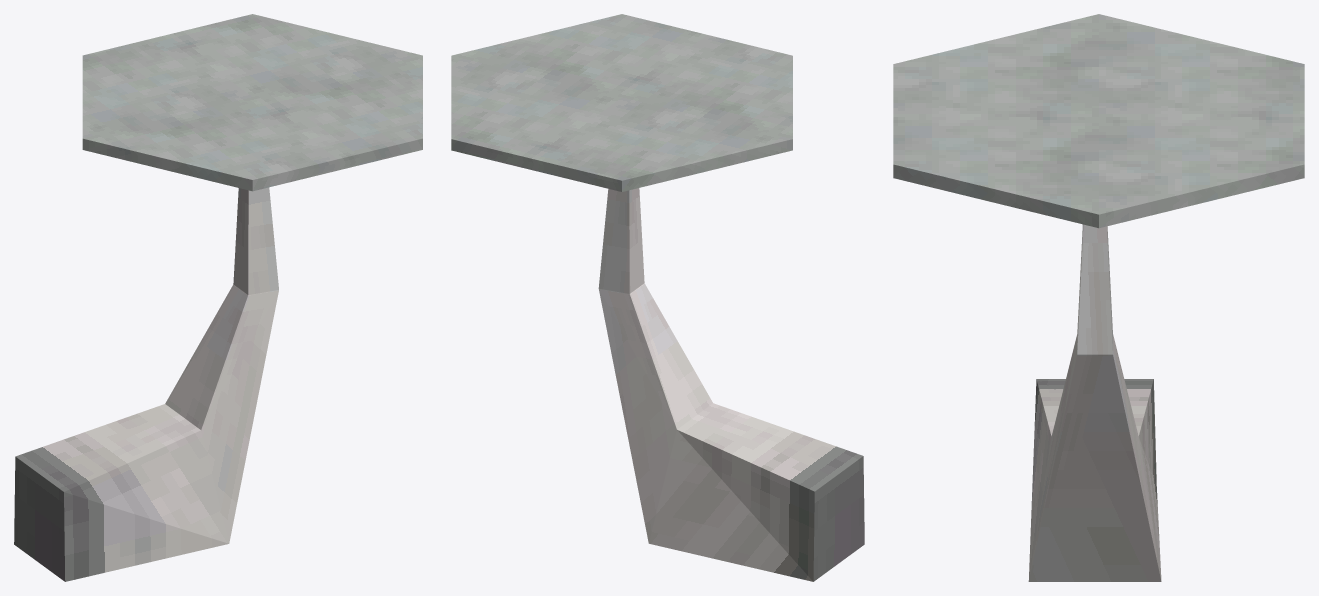
Rendered from frn_all_mdrn_end_table_sml_s01_l3.fbx.
The picture shows the model from 3 angles, left to right: view 1: azimuth 30°, elevation 25°; view 2: azimuth 150°, elevation 25°; view 3: azimuth 270°, elevation 25°; orthographic projection. The views are drawn at different scales.
Visible parts, largest first — view 1: mesh_node; view 2: mesh_node; view 3: mesh_node.
Part boxes in pixels (left/top/right/bottom): mesh_node: left=14, top=14, right=422, bottom=581; mesh_node: left=451, top=14, right=864, bottom=581; mesh_node: left=893, top=14, right=1304, bottom=581.
Bounding box in the file's own units: 0.7123 × 0.73 × 0.5456.
